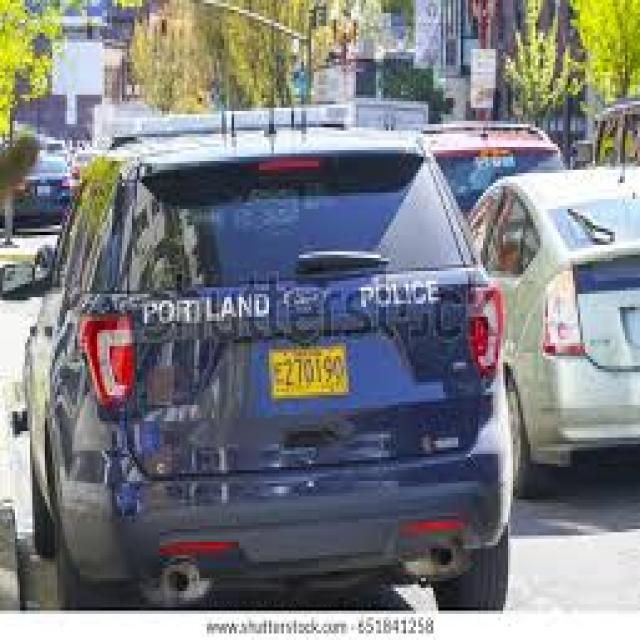cop: (24, 128, 516, 606)
